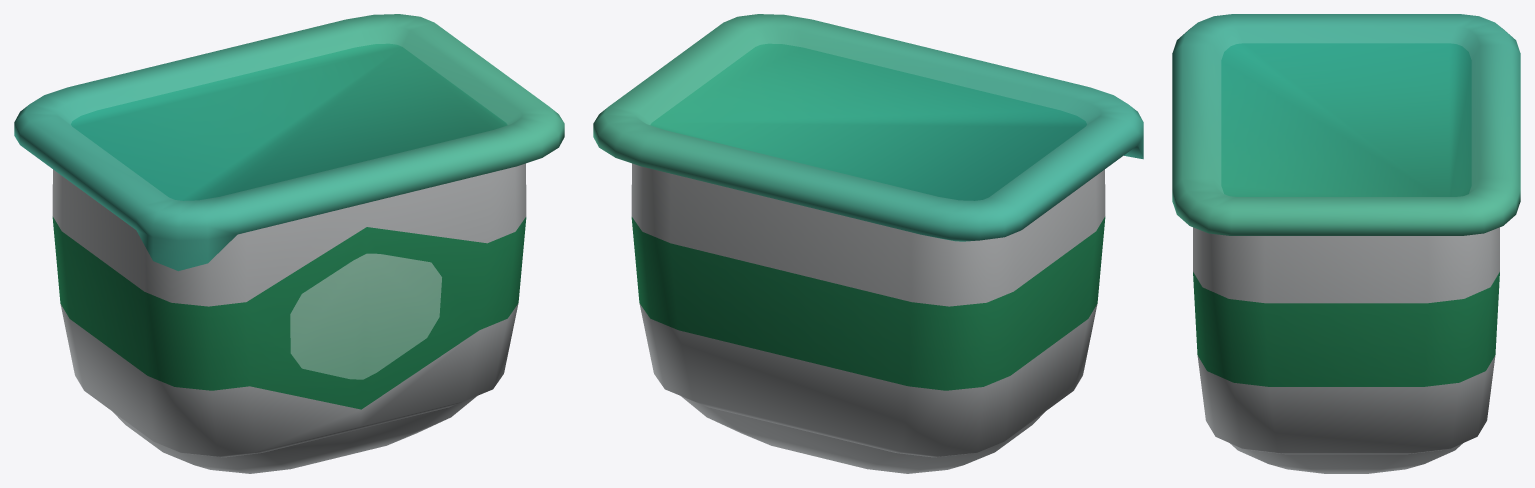
The model's file is yogurt_007.fbx.
The picture shows the model from 3 angles, left to right: view 1: azimuth 30°, elevation 25°; view 2: azimuth 150°, elevation 25°; view 3: azimuth 270°, elevation 25°; orthographic projection.
Parts seen in each view (by area): view 1: yogurt_007; view 2: yogurt_007; view 3: yogurt_007.
Part boxes in pixels (left/top/right/bottom): yogurt_007: left=14, top=14, right=564, bottom=473; yogurt_007: left=593, top=14, right=1143, bottom=473; yogurt_007: left=1172, top=14, right=1520, bottom=473.
Bounding box in the file's own units: 7.16 × 5.16 × 4.98.
